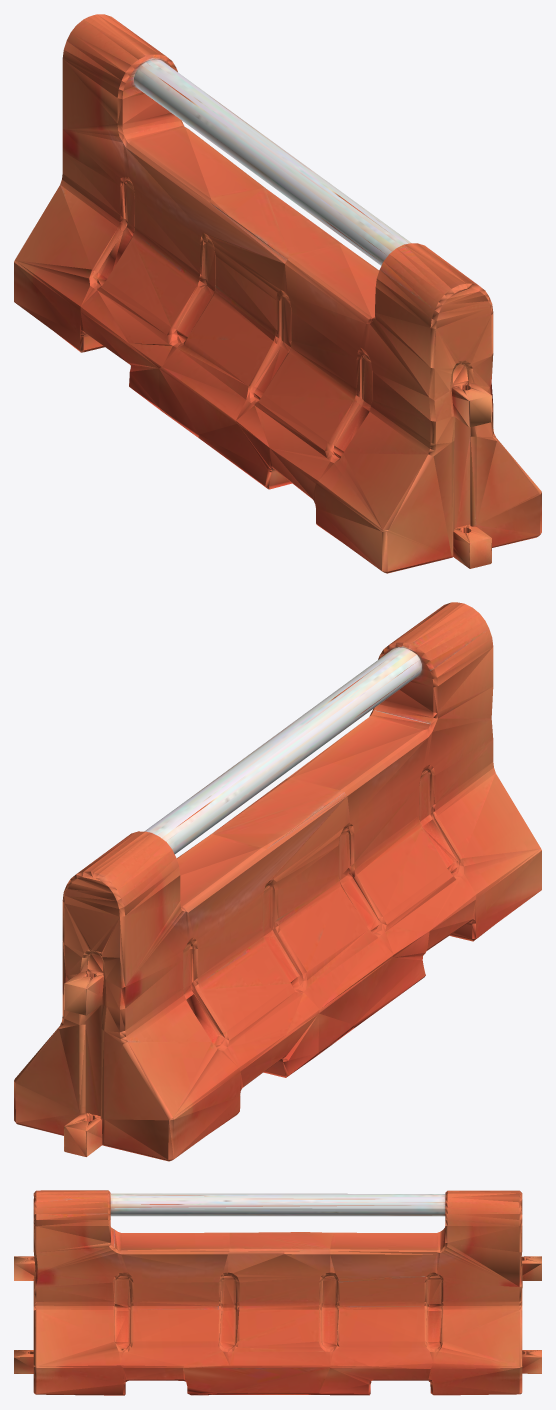
File: water.glb
The picture shows the model from 3 angles, top to bottom: view 1: azimuth 30°, elevation 25°; view 2: azimuth 150°, elevation 25°; view 3: azimuth 270°, elevation 25°; orthographic projection. The views are drawn at different scales.
Visible parts, largest first — view 1: Prop_water; view 2: Prop_water; view 3: Prop_water.
Boxes of the visible parts, x1,y1,x2,y2 form: Prop_water: [14, 14, 541, 573]; Prop_water: [14, 602, 541, 1161]; Prop_water: [14, 1190, 541, 1395].
Bounding box in the file's own units: 0.4596 × 0.7455 × 2.
1 material, 1 textured.
